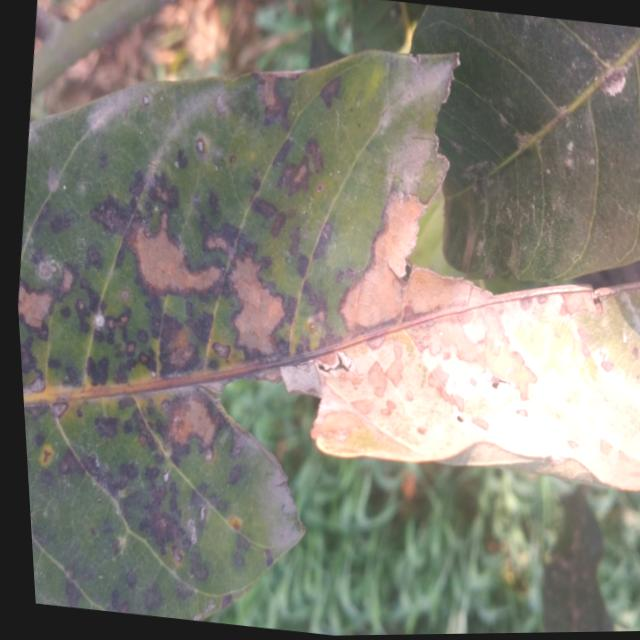Anthracnose: (105, 199, 236, 324), (272, 130, 330, 210), (130, 496, 188, 555), (156, 313, 203, 378), (252, 66, 296, 133), (12, 279, 56, 339), (270, 154, 322, 202), (296, 275, 337, 323), (90, 195, 135, 234), (193, 190, 226, 239), (146, 170, 185, 211), (51, 446, 89, 485), (181, 549, 214, 584), (316, 72, 347, 109), (54, 262, 81, 304), (75, 276, 104, 315), (311, 220, 336, 262), (110, 352, 139, 387), (184, 309, 214, 342), (302, 137, 327, 174), (135, 346, 164, 377), (249, 194, 281, 222), (270, 136, 297, 168), (30, 199, 54, 235), (124, 168, 150, 201), (61, 576, 84, 608), (145, 297, 162, 338), (143, 579, 164, 610), (26, 397, 52, 422), (48, 210, 75, 234), (267, 210, 289, 239), (87, 356, 109, 385), (167, 481, 182, 523), (20, 335, 37, 372), (83, 242, 104, 270), (225, 461, 248, 486), (37, 466, 59, 491), (95, 416, 119, 438), (231, 531, 254, 553), (287, 226, 303, 256), (174, 581, 196, 601), (112, 243, 128, 270), (64, 365, 84, 386), (168, 541, 186, 564), (123, 567, 140, 591), (115, 393, 136, 412), (210, 340, 232, 358), (142, 463, 161, 482), (230, 549, 247, 570), (296, 253, 310, 278), (216, 592, 236, 609), (31, 430, 48, 448), (134, 327, 151, 344), (175, 148, 189, 168), (110, 587, 120, 611), (121, 418, 134, 435), (59, 304, 72, 319), (47, 357, 61, 370), (98, 152, 108, 170), (265, 548, 274, 566), (208, 358, 219, 369), (75, 405, 84, 418)
black die: (112, 456, 193, 539)
